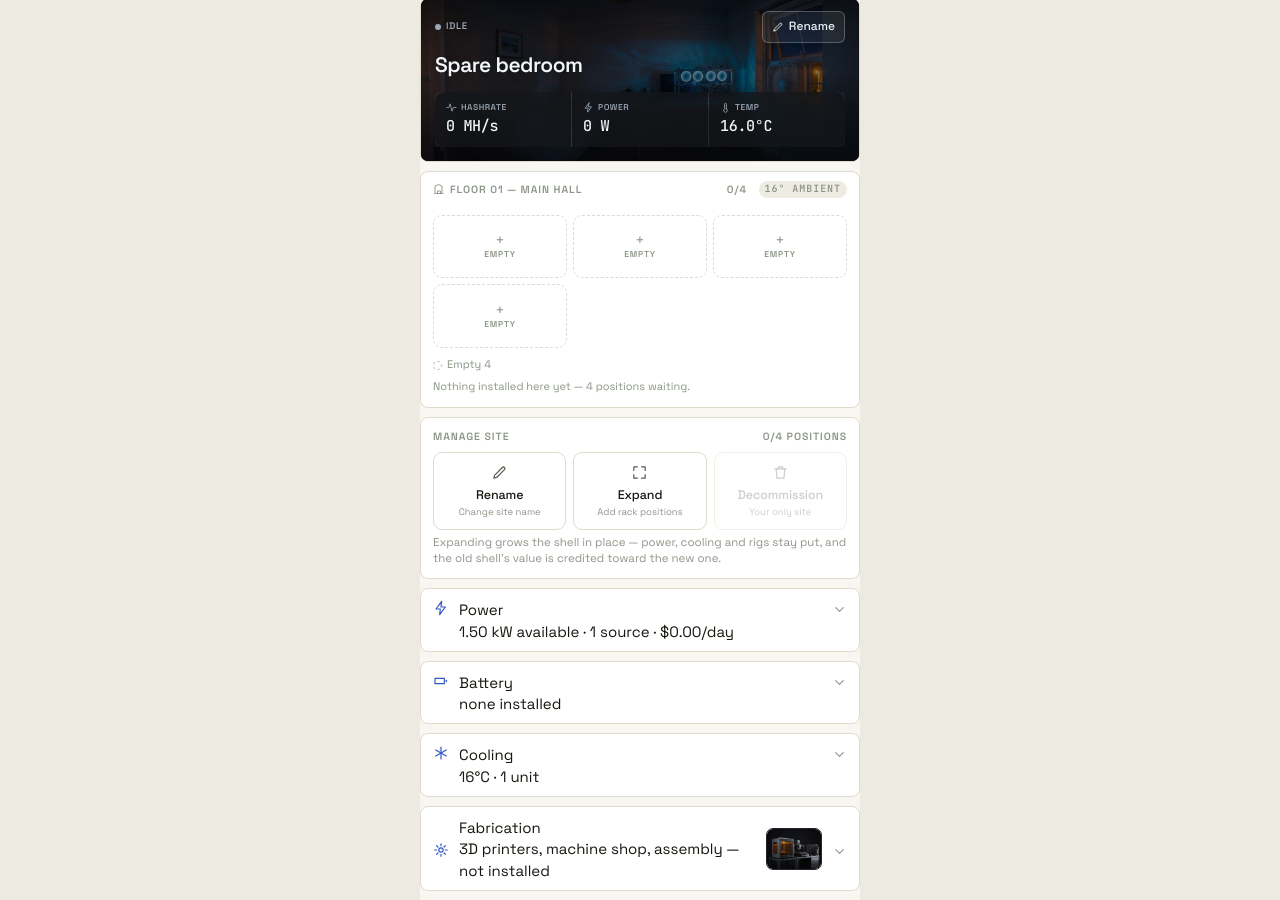
SitesView › Fabrication › while a fab job is queued, reads as under construction rather than not installed, and hides the dead Install button
The image size is (1280, 900).
(page scrolled)
Click the button with class "rig-hd" that starts with "Fabrication".
click(640, 848)  # box [421,806,859,890]
(page scrolled)
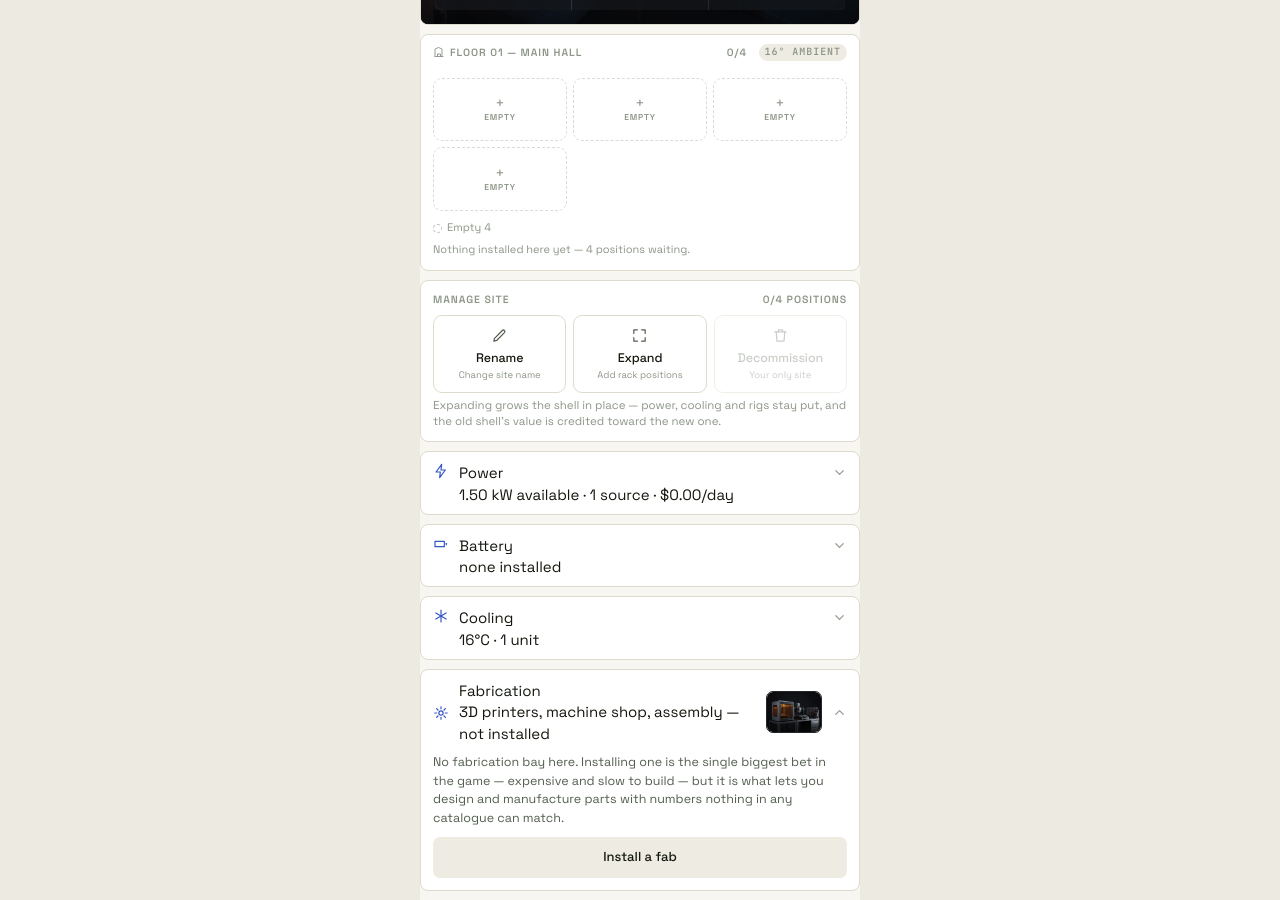
Click the button "Install a fab".
click(640, 857)  # box [433,837,847,878]
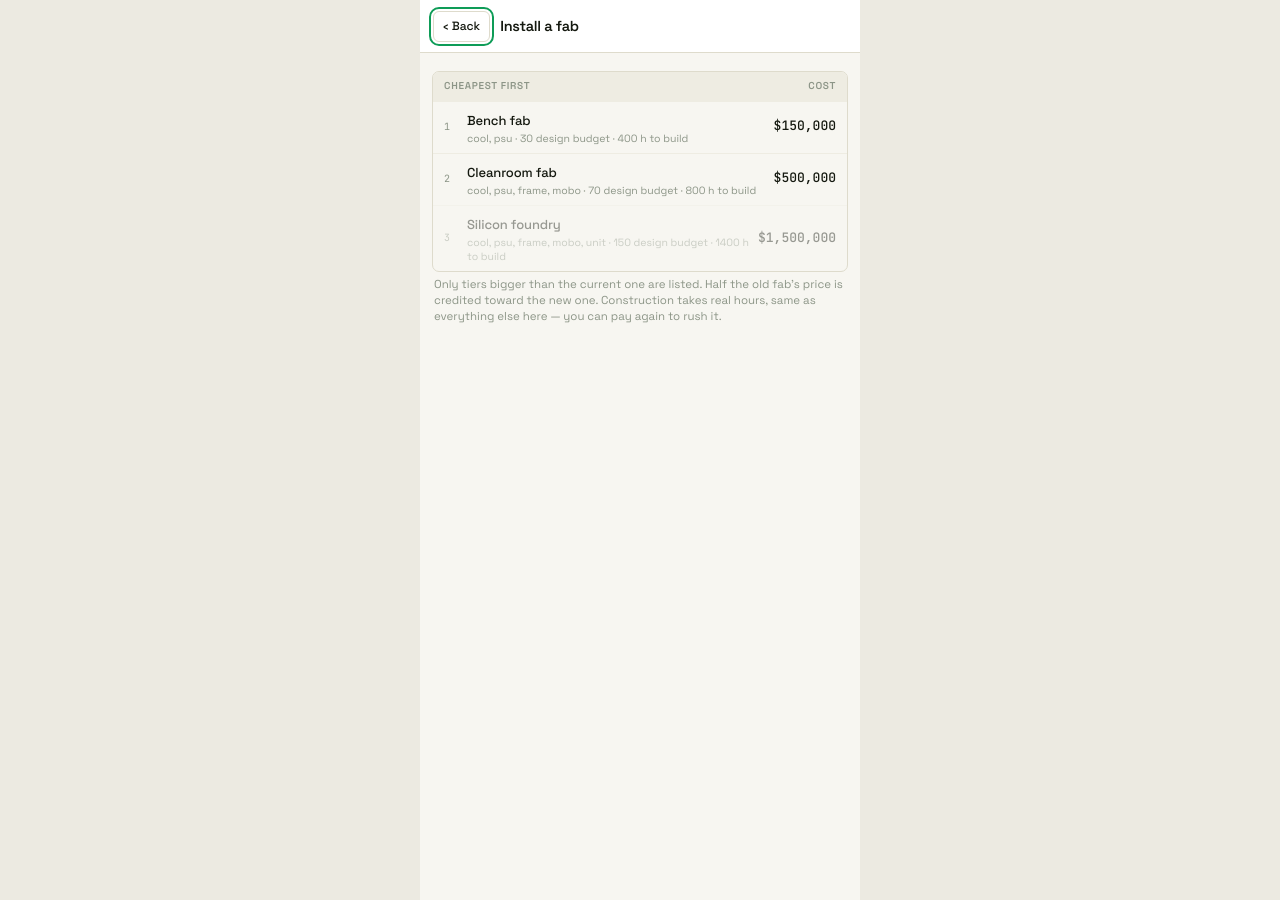
Click the button with class "cmp-r" that starts with "Bench fab".
click(499, 120)  # box [433,101,847,153]
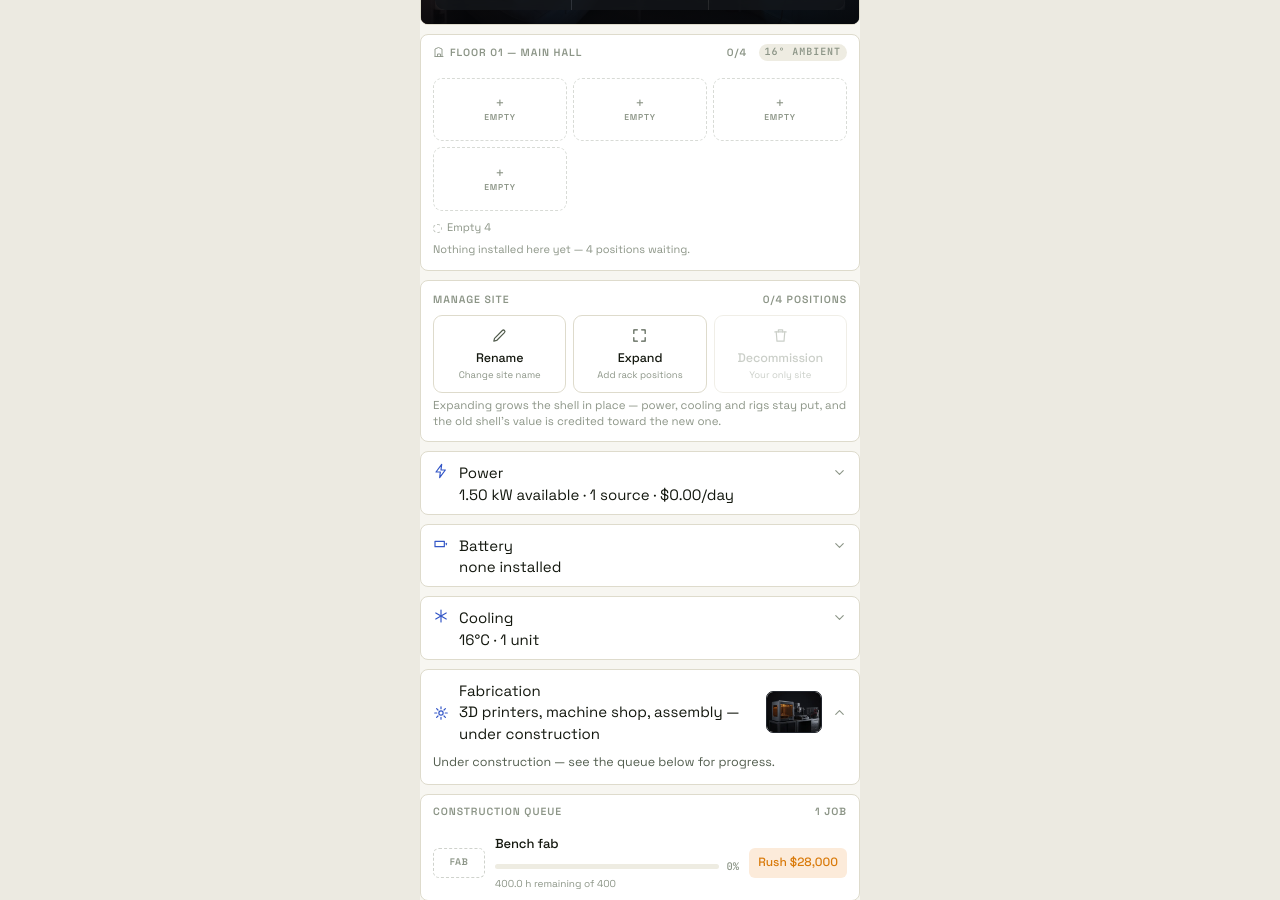
Now the text "under construction" is shown, box [459,702,739,743]
Now the text "not installed" is gone
